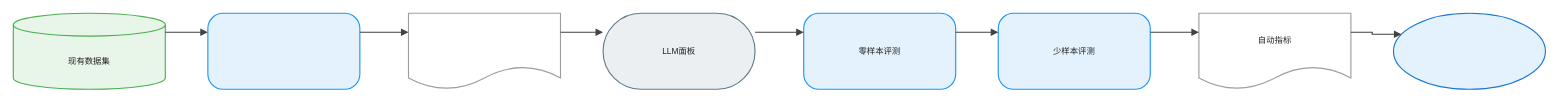
The diagram is 1560 pixels wide and 103 high, and some of its shapes have lost their labels. The shapes that lost their labels are listed below. From the top down, each one's centre as x and y in pixels, then its label:
At point (283, 51): "新临床任务".
At point (484, 51): "临床来源".
At point (1469, 51): "专家评审".
